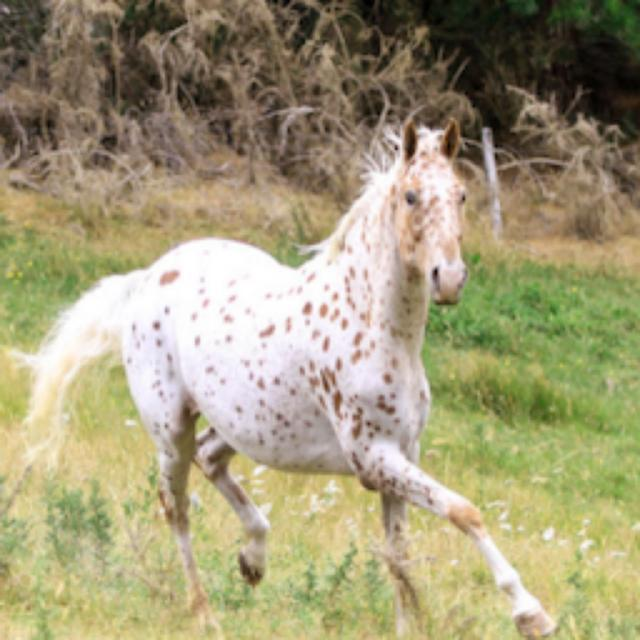Horse: (5, 110, 568, 638)
